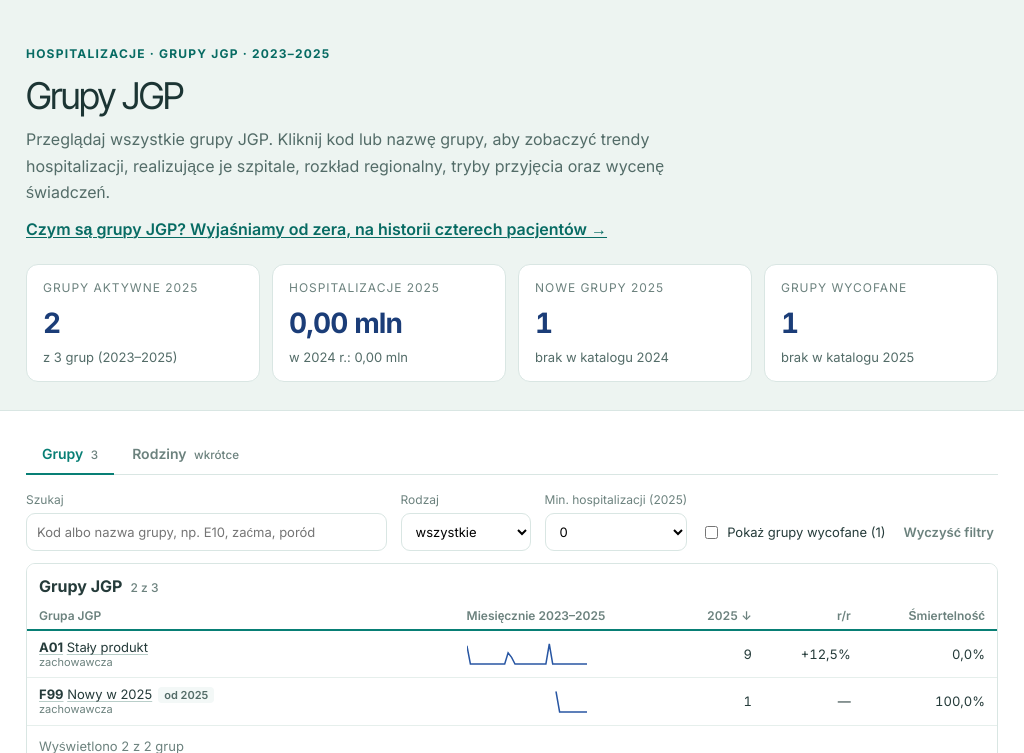
Test: Katalog grup JGP › filtruje po kodzie i nazwie bez polskich znaków
In the search field: (206, 532) [26, 513, 386, 551], type "staly"
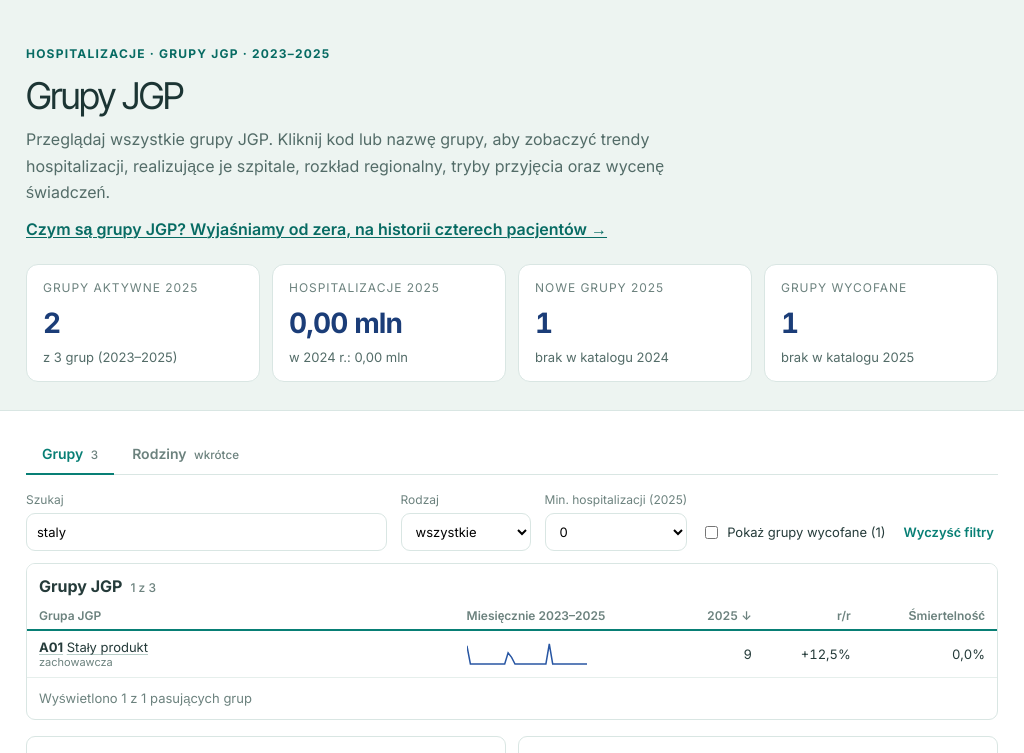
Replace the text in the search field with "f9": (206, 532) [26, 513, 386, 551]
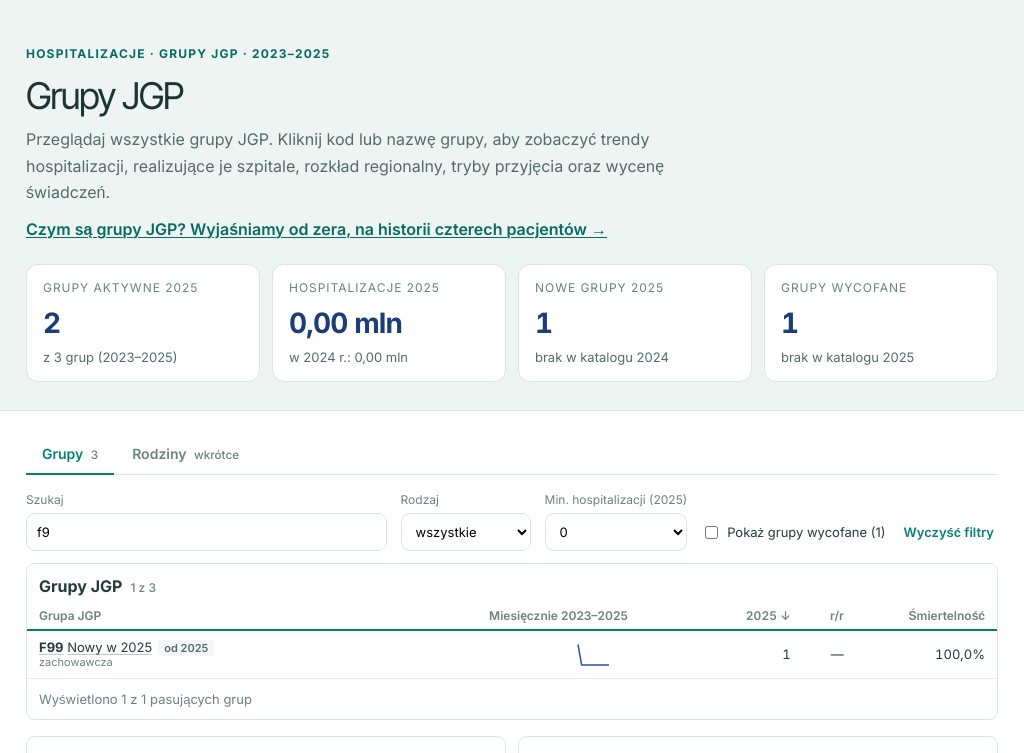
Replace the text in the search field with "xyz": (206, 532) [26, 513, 386, 551]
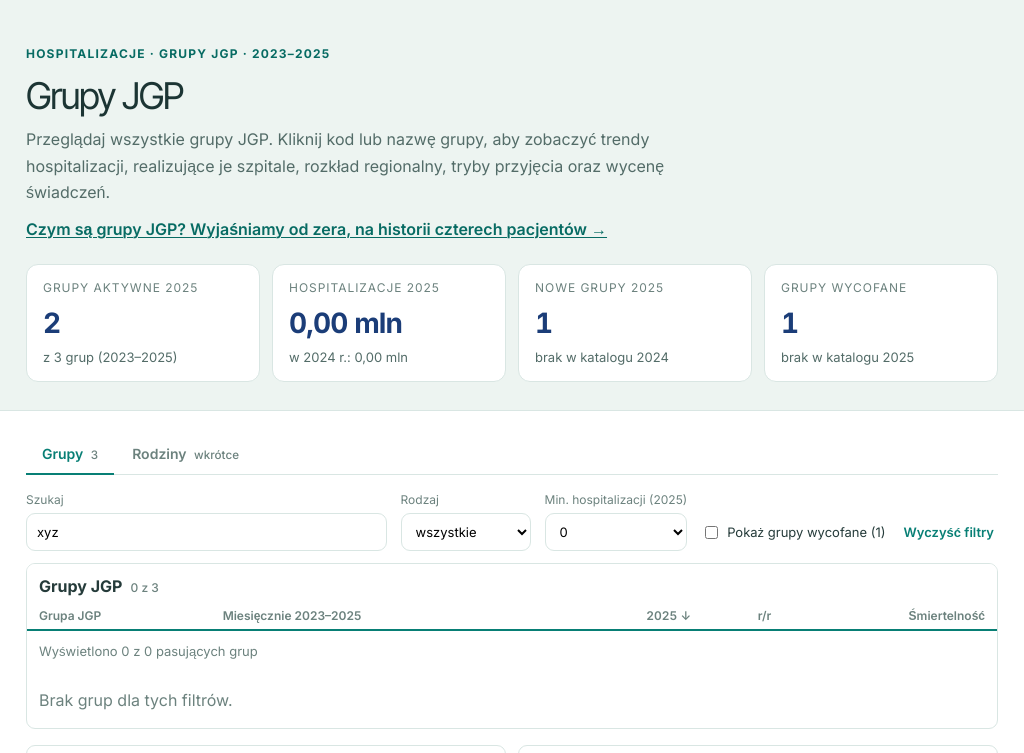
expect the text "Brak grup dla tych filtrów." is shown: met, box [39, 690, 233, 710]
